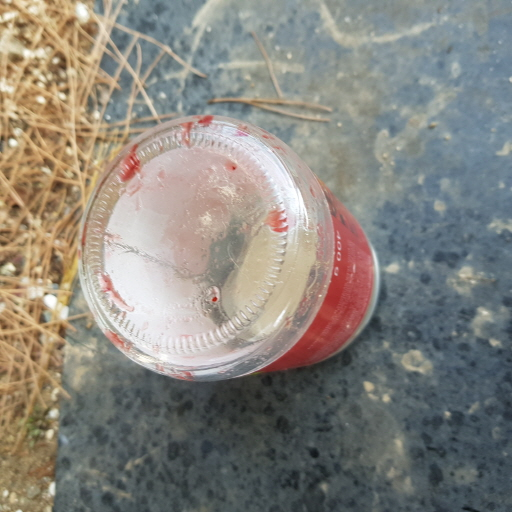Glass_5: (77, 110, 381, 385)
